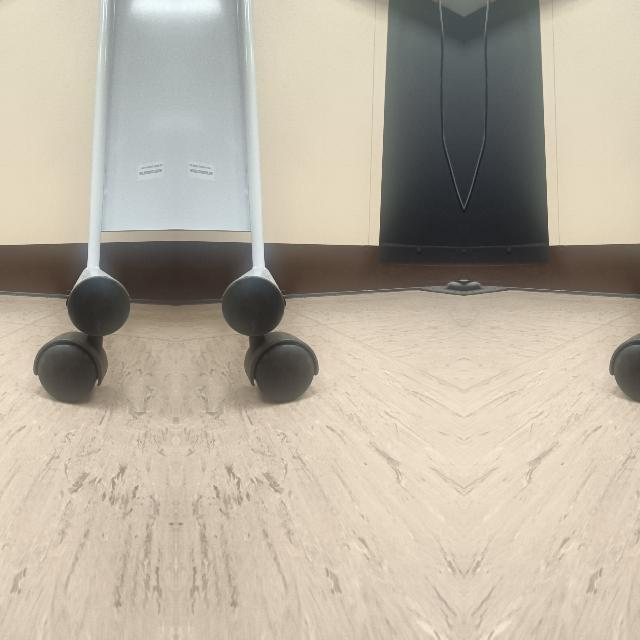obstacle: (220, 160, 320, 406), (30, 160, 130, 406), (608, 160, 640, 405)
